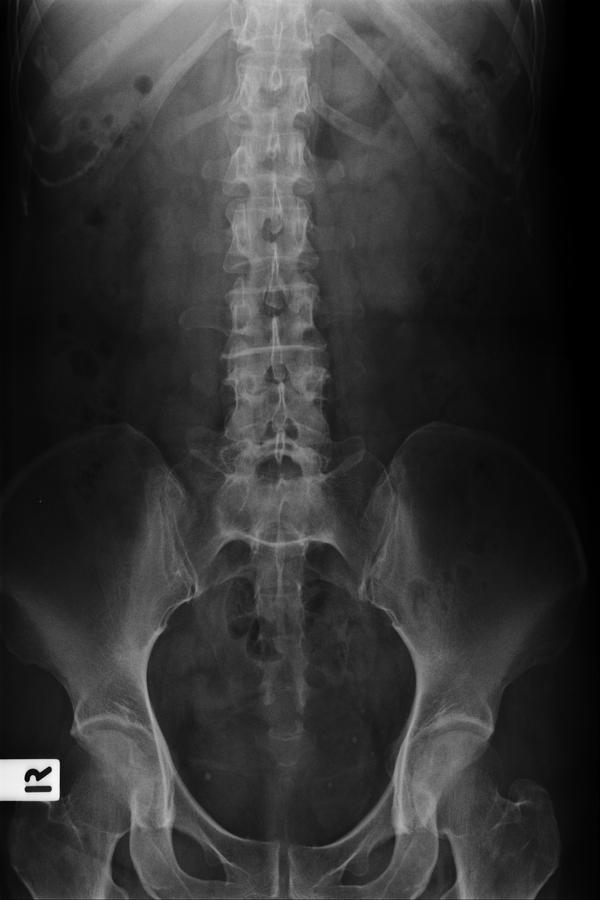lumbar scoliosis: (208, 9, 336, 531)
